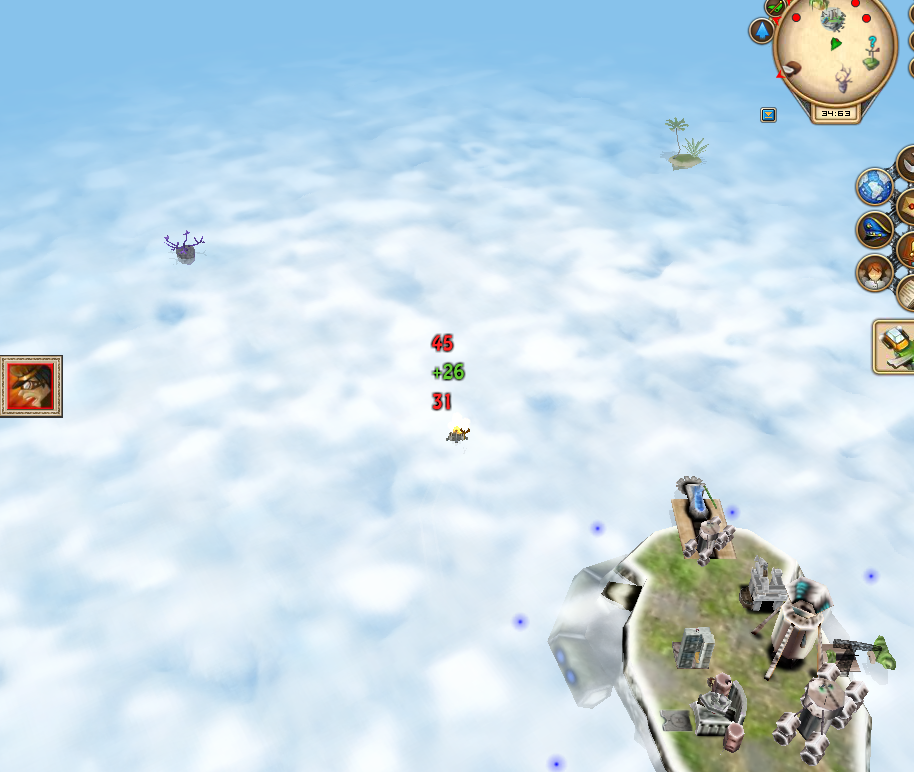palm: (661, 115, 708, 174)
